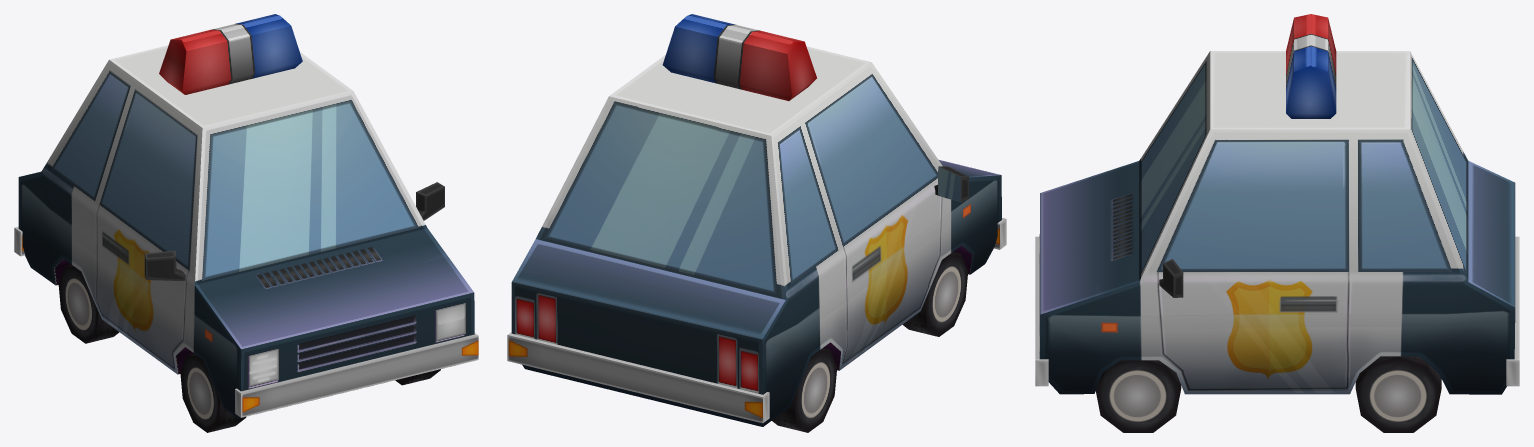
The model's file is Car_Police.FBX.
3 renders of one model, left to right at view 1: azimuth 30°, elevation 25°; view 2: azimuth 150°, elevation 25°; view 3: azimuth 270°, elevation 25°, orthographic. The views are drawn at different scales.
Parts seen in each view (by area): view 1: Car_Basic, Tyre02, Tyre04; view 2: Car_Basic, Tyre02, Tyre04; view 3: Car_Basic, Tyre03, Tyre01.
Boxes of the visible parts, left/top/right/bottom form: Car_Basic: left=14, top=14, right=478, bottom=418; Tyre02: left=180, top=353, right=246, bottom=432; Tyre04: left=58, top=264, right=119, bottom=343; Car_Basic: left=507, top=14, right=1006, bottom=426; Tyre02: left=902, top=251, right=968, bottom=336; Tyre04: left=772, top=347, right=837, bottom=432; Car_Basic: left=1035, top=14, right=1519, bottom=394; Tyre03: left=1355, top=356, right=1441, bottom=432; Tyre01: left=1096, top=360, right=1181, bottom=432.
Size of the model in its own units: 90.18 by 90.51 by 119.
